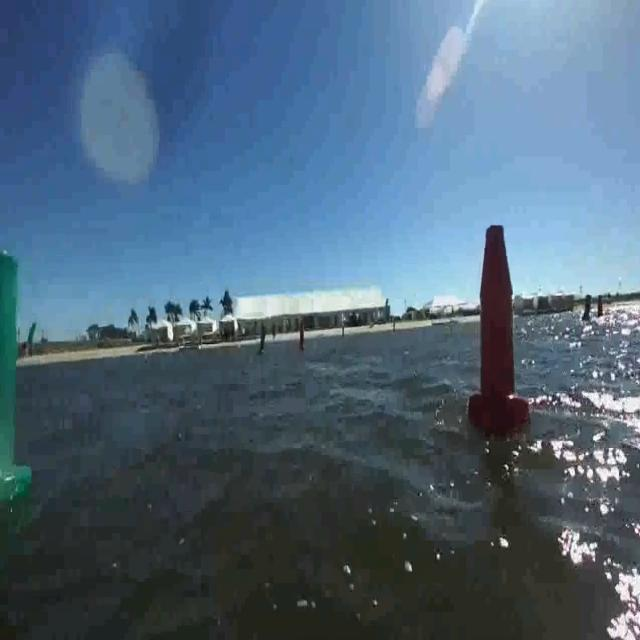green-column-buoy: (0, 246, 30, 499), (258, 325, 270, 357), (582, 295, 594, 324)
red-column-buoy: (468, 223, 528, 433), (296, 323, 306, 353), (596, 294, 606, 321), (593, 292, 603, 318)
